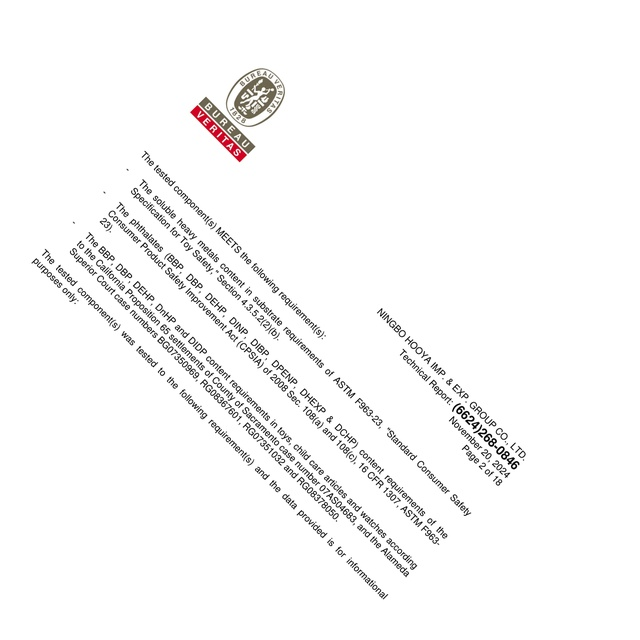bureau_veritas: (187, 64, 287, 164)
